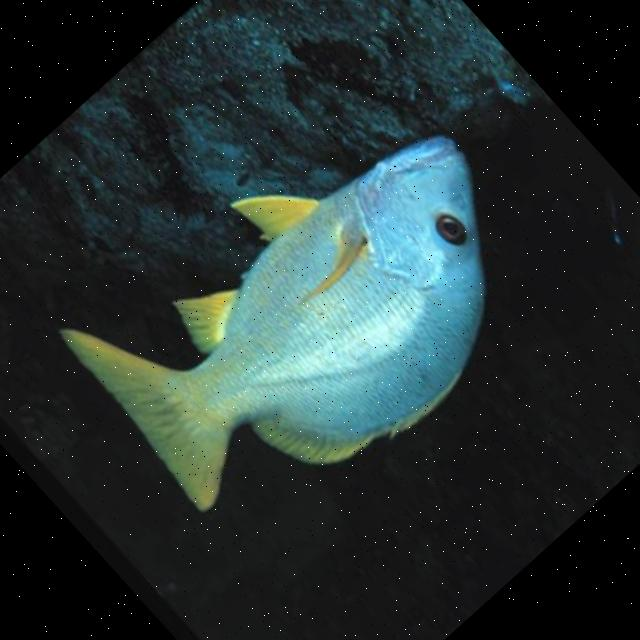ikan: (46, 48, 582, 574)
